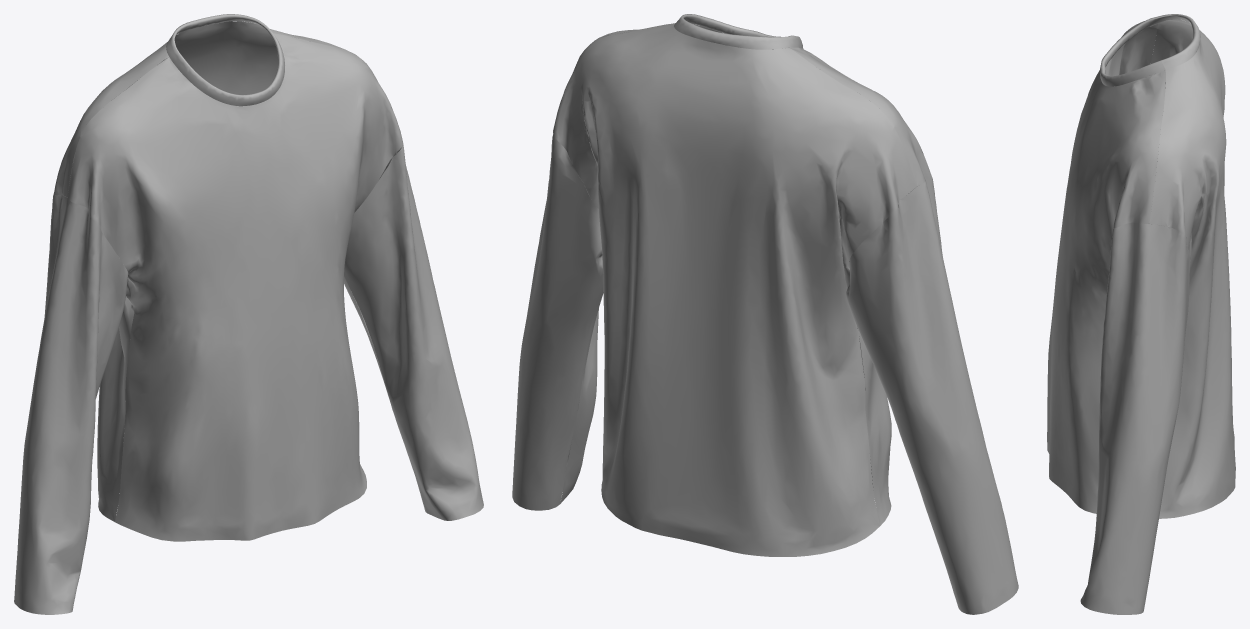
File: tshirt_long_best.glb
3 renders of one model, left to right at view 1: azimuth 30°, elevation 25°; view 2: azimuth 150°, elevation 25°; view 3: azimuth 270°, elevation 25°, orthographic. The views are drawn at different scales.
Parts seen in each view (by area): view 1: all; view 2: all; view 3: all.
Boxes of the visible parts, x1,y1,x2,y2 form: all: (14,14,483,614); all: (512,14,1018,614); all: (1047,14,1235,614).
Size of the model in its own units: 0.6515 by 0.6981 by 0.2458.
Materials: 1 (1 with a texture image).
